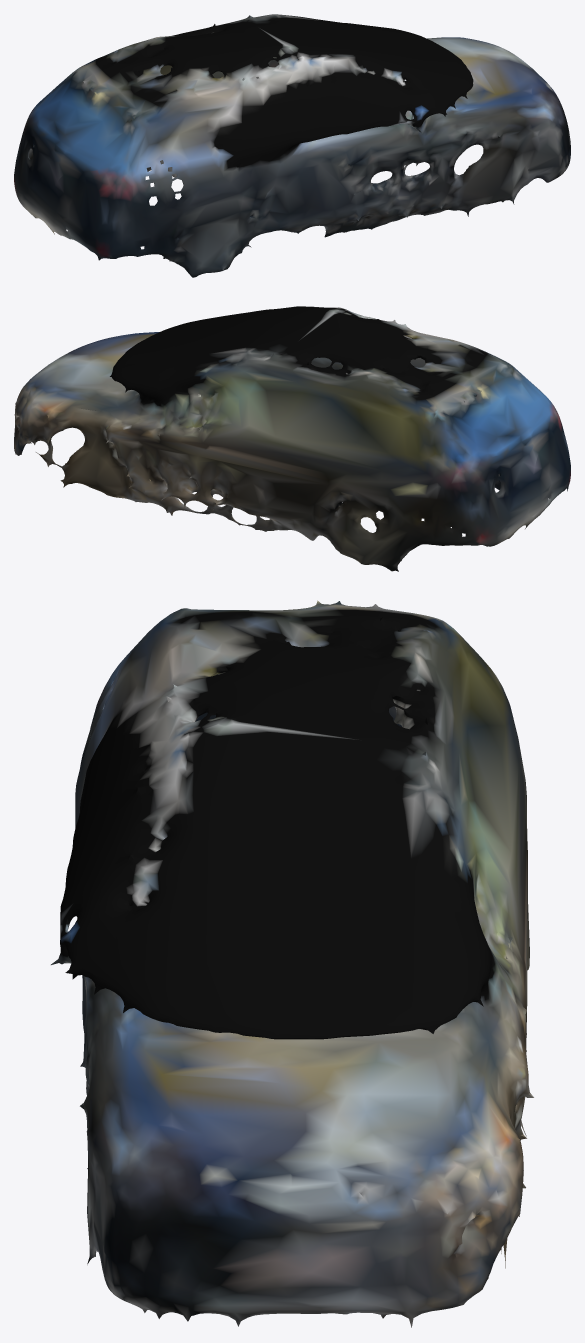
File: subaru-outback.glb
3 renders of one model, top to bottom at view 1: azimuth 30°, elevation 25°; view 2: azimuth 150°, elevation 25°; view 3: azimuth 270°, elevation 25°, orthographic. The views are drawn at different scales.
Parts seen in each view (by area): view 1: subaru-outback-clean-smooth; view 2: subaru-outback-clean-smooth; view 3: subaru-outback-clean-smooth.
Part boxes in pixels (box(x1,y1,x2,y2)): subaru-outback-clean-smooth: box(14, 14, 570, 277); subaru-outback-clean-smooth: box(14, 306, 570, 571); subaru-outback-clean-smooth: box(51, 600, 533, 1327).
Bounding box in the file's own units: 4.87 × 1.72 × 2.07.
